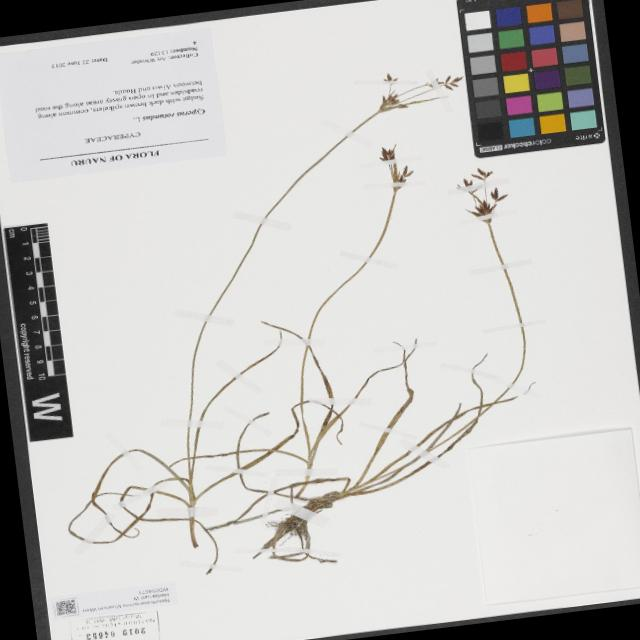cyperus: (362, 60, 468, 119), (446, 161, 518, 228), (369, 143, 423, 195)
